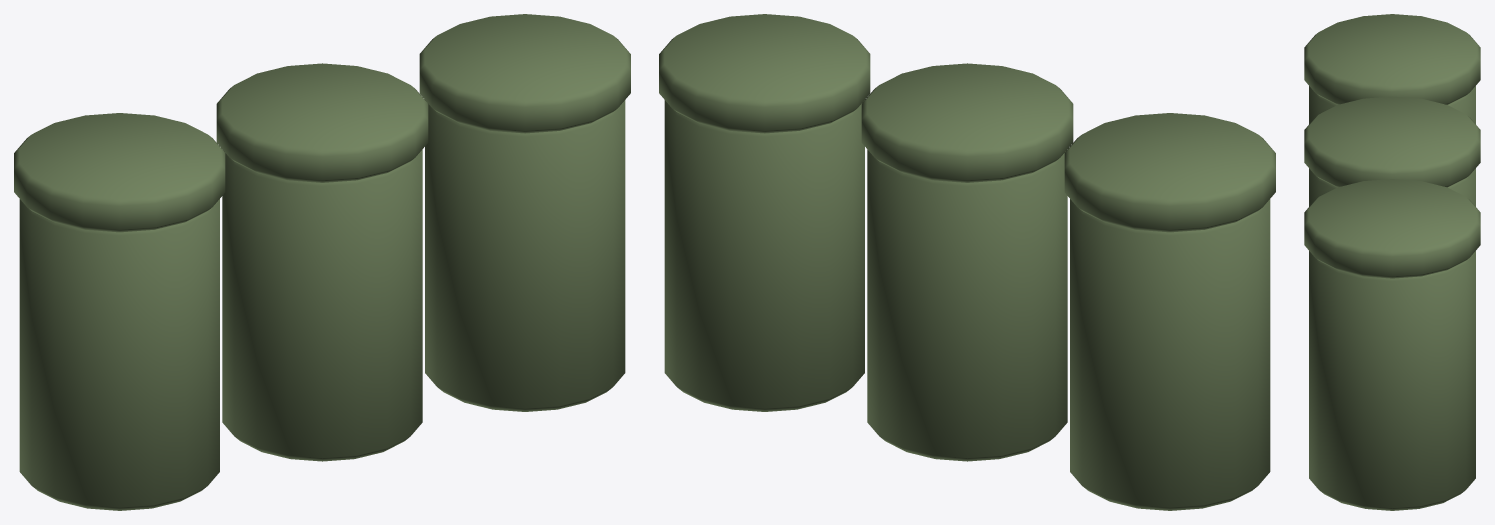
File: i_jars_7.glb
3 renders of one model, left to right at view 1: azimuth 30°, elevation 25°; view 2: azimuth 150°, elevation 25°; view 3: azimuth 270°, elevation 25°, orthographic. The views are drawn at different scales.
Parts seen in each view (by area): view 1: o, o.004, o.002, o.003, o.005, o.001; view 2: o, o.004, o.002, o.003, o.005, o.001; view 3: o.004, o.005, o.003, o.001, o, o.002.
Part boxes in pixels (<box>): o: <box>19,199,219,510</box>; o.004: <box>425,100,625,411</box>; o.002: <box>222,149,422,461</box>; o.003: <box>216,63,428,182</box>; o.005: <box>419,14,630,133</box>; o.001: <box>14,113,225,232</box>; o: <box>1070,199,1270,510</box>; o.004: <box>664,100,864,411</box>; o.002: <box>867,149,1067,461</box>; o.003: <box>861,63,1073,182</box>; o.005: <box>659,14,870,133</box>; o.001: <box>1064,113,1275,232</box>; o.004: <box>1309,251,1475,510</box>; o.005: <box>1304,179,1480,278</box>; o.003: <box>1304,96,1480,187</box>; o.001: <box>1304,14,1480,104</box>; o: <box>1309,86,1475,123</box>; o.002: <box>1309,168,1475,206</box>.
Bounding box in the file's own units: 0.369 × 0.188 × 0.1142.
